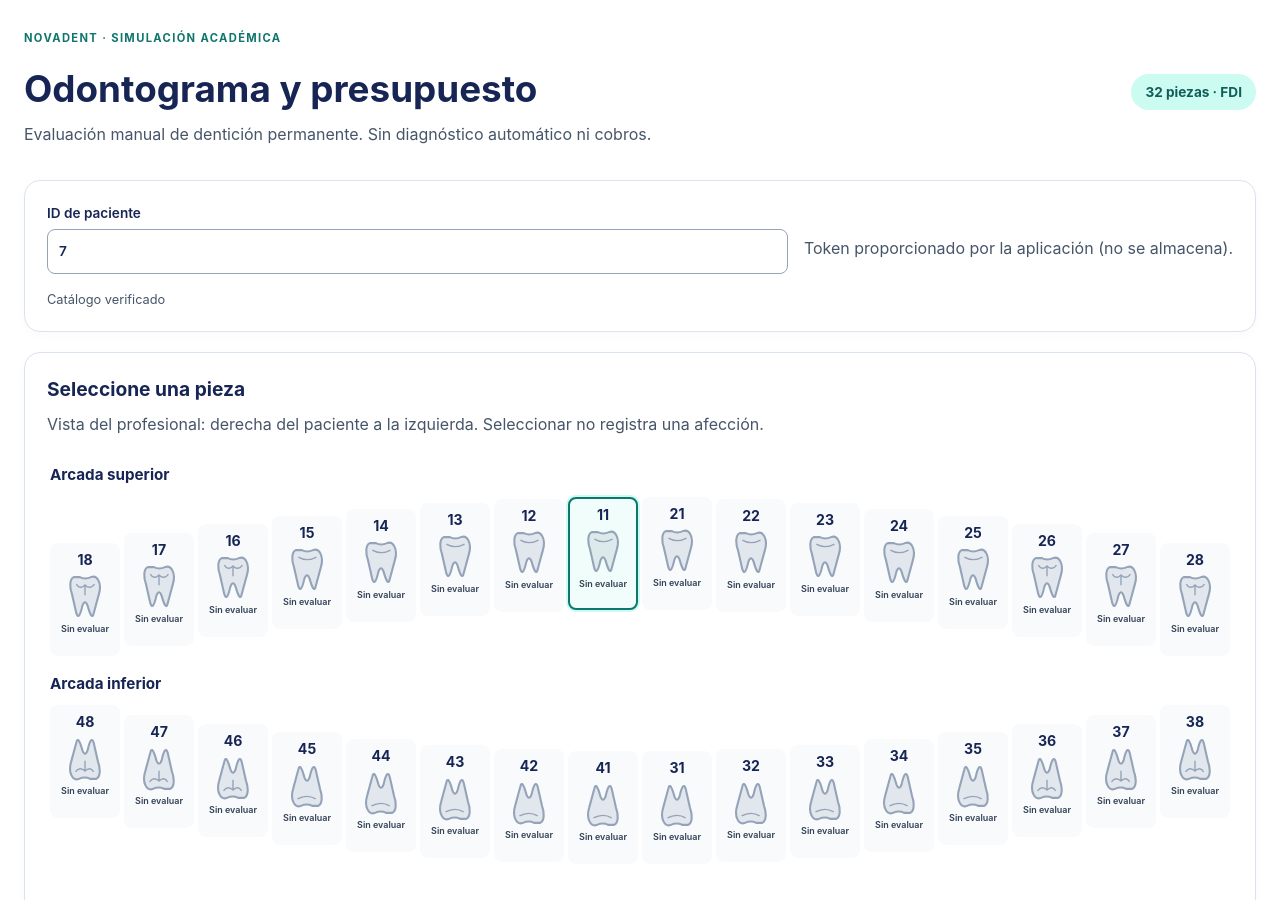
Test: Odontograma académico › replaces conditions without duplicates, shows full treatment and total
This screenshot has width=1280, height=900.
Expected: the text "Catálogo verificado" is shown, [47,292,165,307]
Click the button with aria-label "Diente 11: Sin evaluar".
click(603, 553)  # box [568,496,638,610]
(page scrolled)
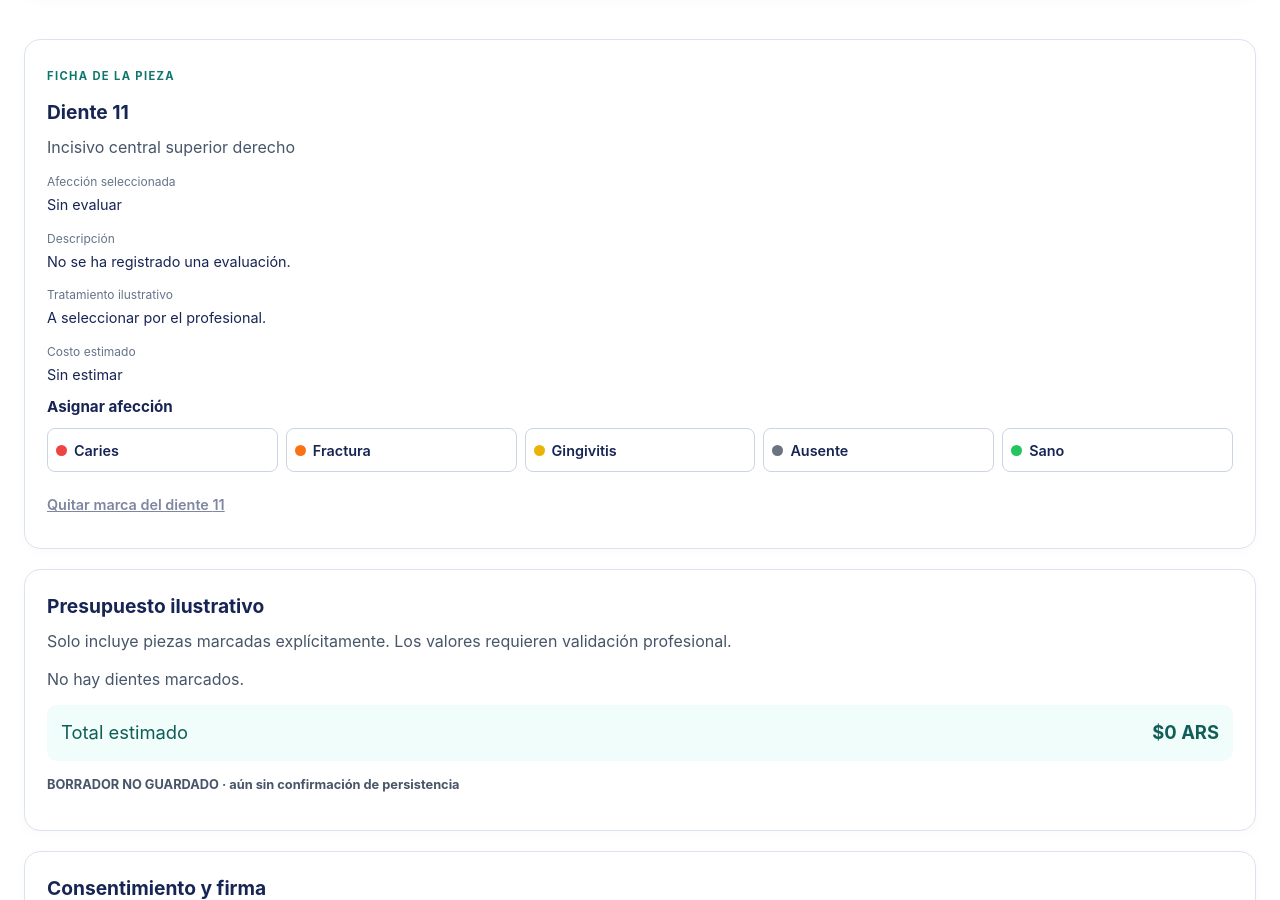
Click the button with aria-label "Asignar Caries".
click(162, 450)  # box [47,428,278,472]
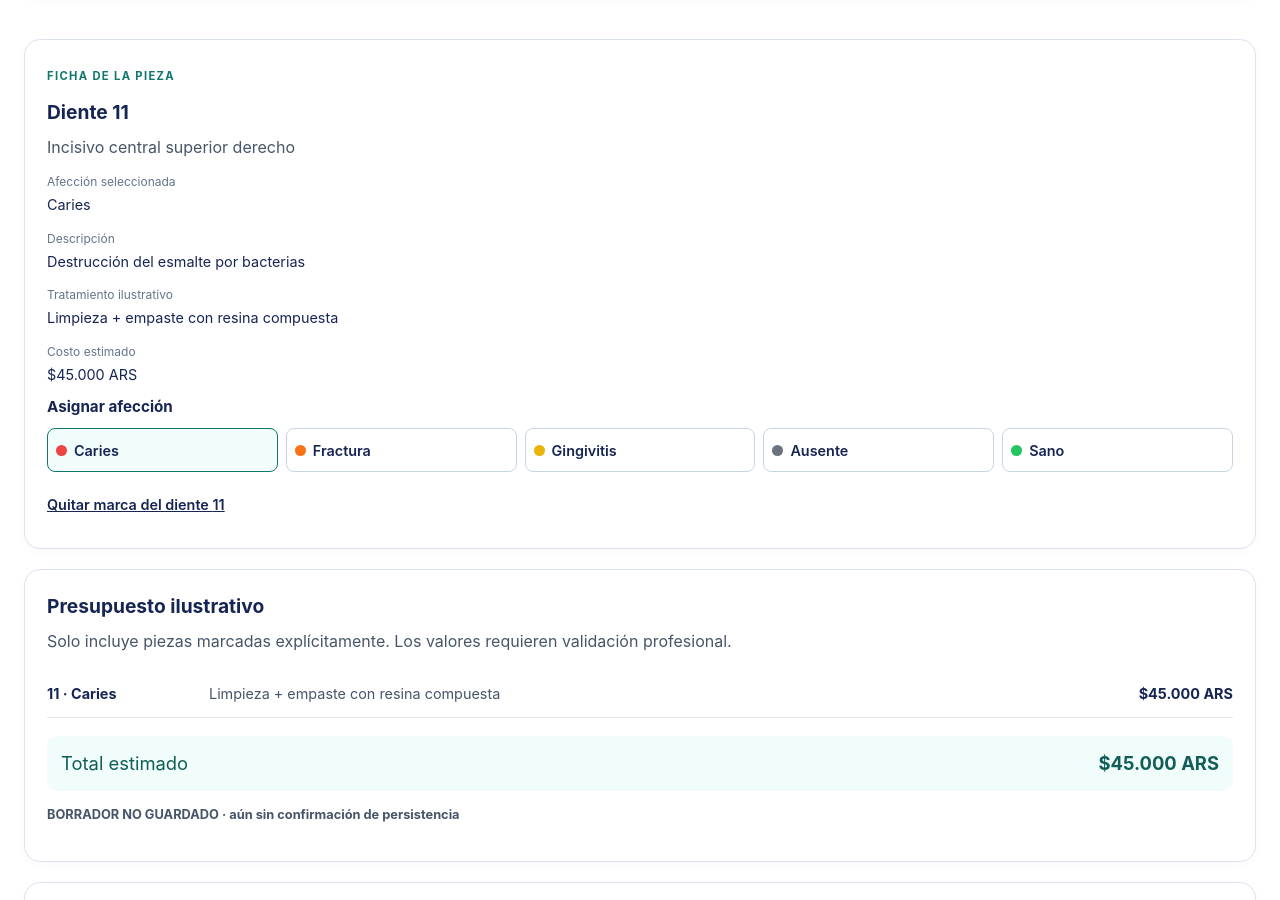
Expected: the text "Destrucción del esmalte por bacterias" is shown, [47,253,305,270]
Expected: the element with test id "estimate-total" shows "$45.000", [1098,752,1177,774]
Click the button with aria-label "Asignar Fractura".
click(401, 450)  # box [286,428,517,472]
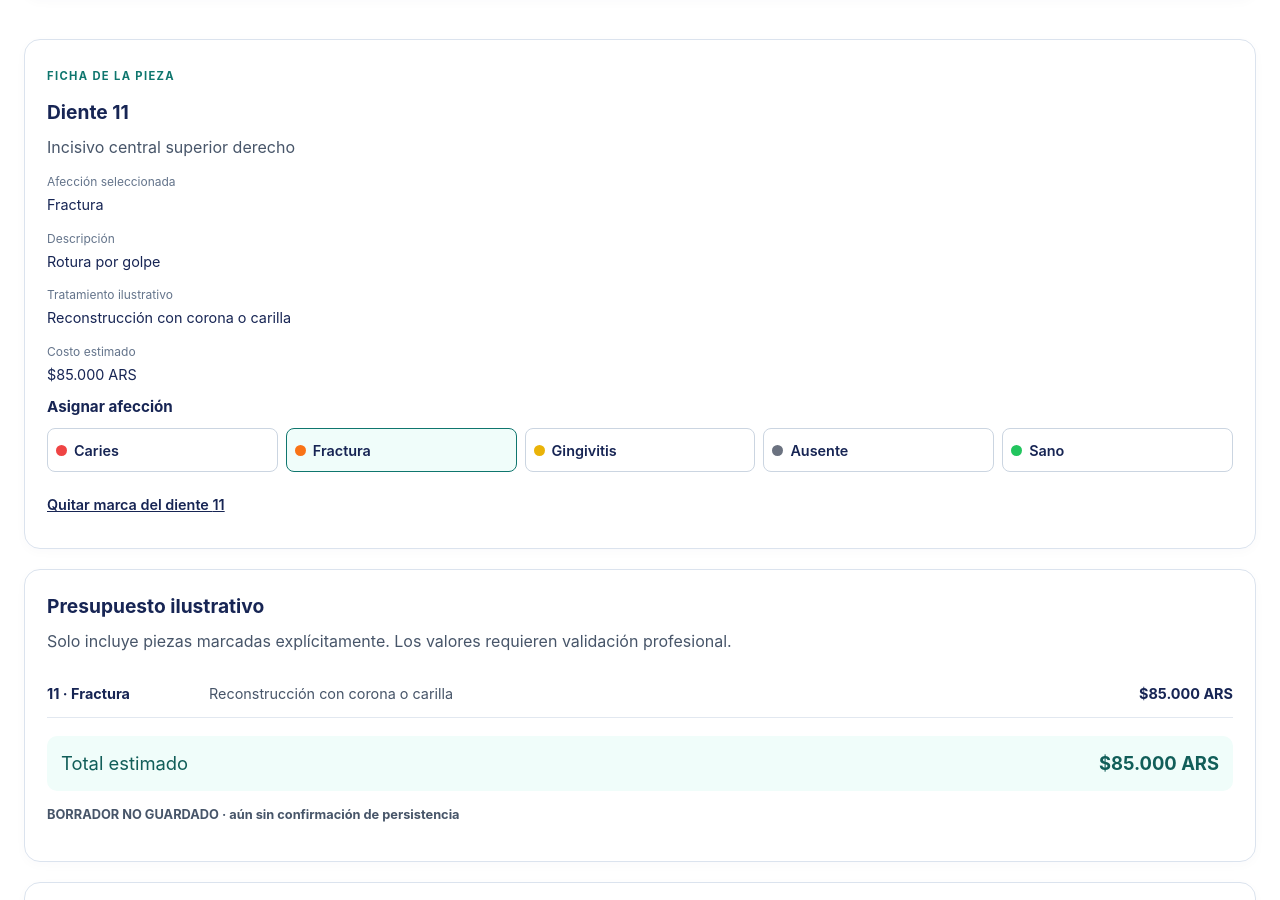
Expected: the number of list items with test id "estimate-row" is 1, [47,671,1233,718]
Expected: the element with test id "estimate-total" shows "$85.000", [1099,752,1177,774]
